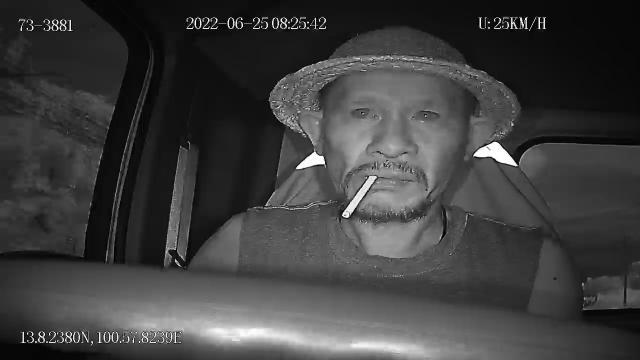SafeDriving: (403, 101, 447, 128), (344, 99, 386, 124)
Smoking: (342, 174, 380, 221)
